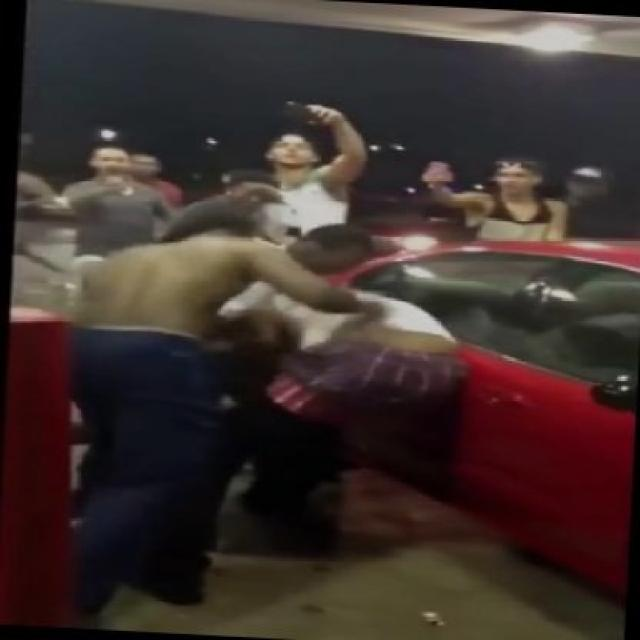fight: (11, 187, 467, 623)
